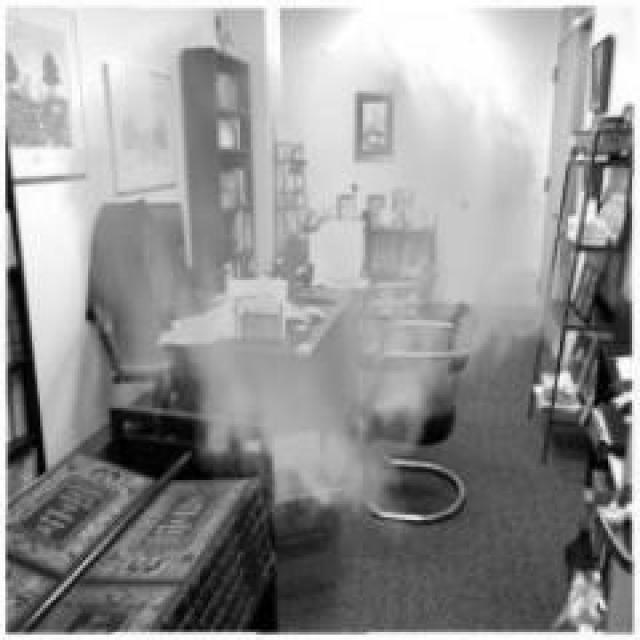fire: (51, 13, 578, 520)
